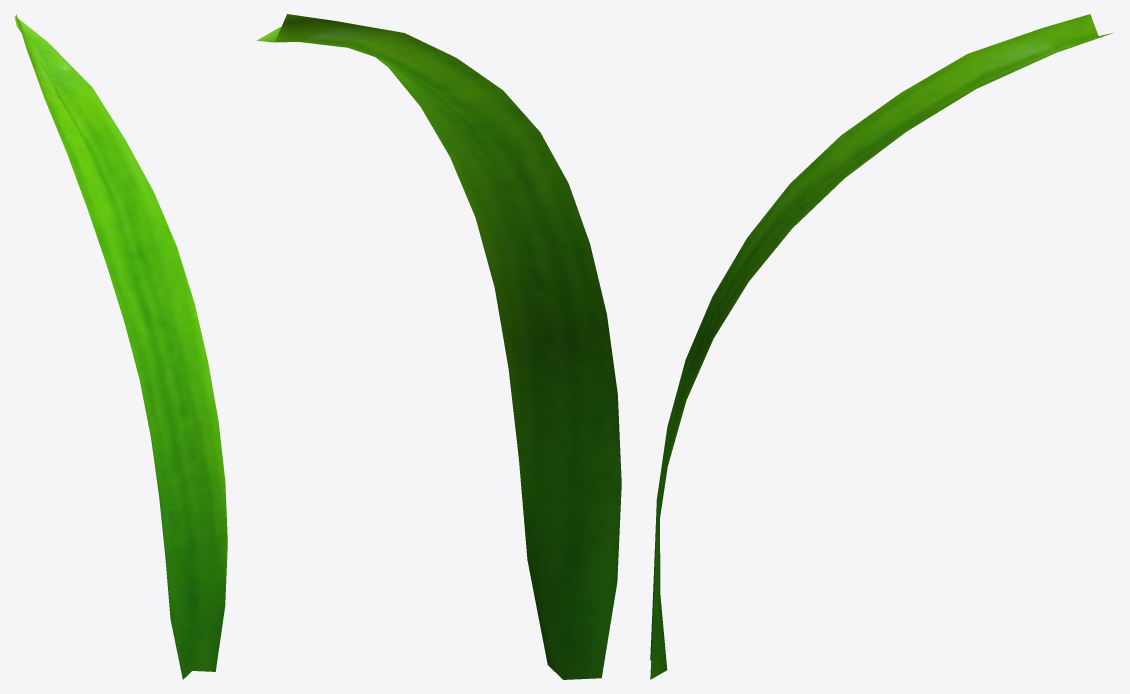
Rendered from Daun_Pandan.fbx.
The picture shows the model from 3 angles, left to right: view 1: azimuth 30°, elevation 25°; view 2: azimuth 150°, elevation 25°; view 3: azimuth 270°, elevation 25°; orthographic projection. The views are drawn at different scales.
Visible parts, largest first — view 1: daun pandan; view 2: daun pandan; view 3: daun pandan.
Part boxes in pixels (left/top/right/bottom): daun pandan: left=14, top=14, right=227, bottom=679; daun pandan: left=256, top=14, right=621, bottom=679; daun pandan: left=650, top=14, right=1113, bottom=679.
Size of the model in its own units: 79.37 by 561 by 362.
